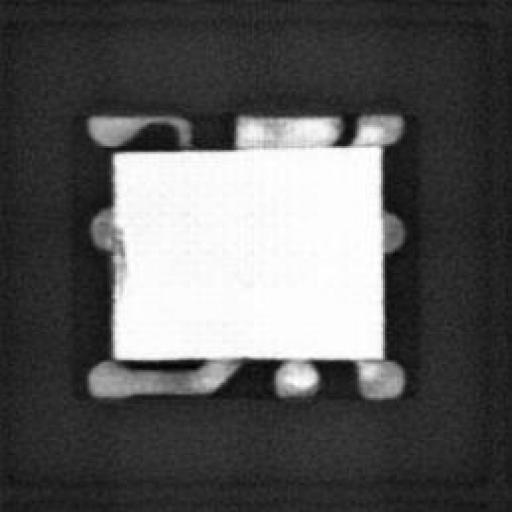DIE_INK: (111, 222, 129, 299)
